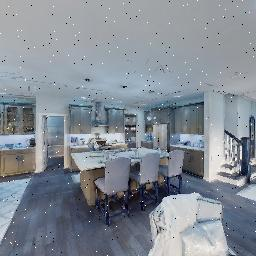chair: (90, 153, 132, 224), (130, 147, 164, 210), (157, 145, 188, 201)
door-frame: (37, 109, 67, 173)
stairs: (217, 123, 256, 199)
table: (70, 142, 174, 203)
